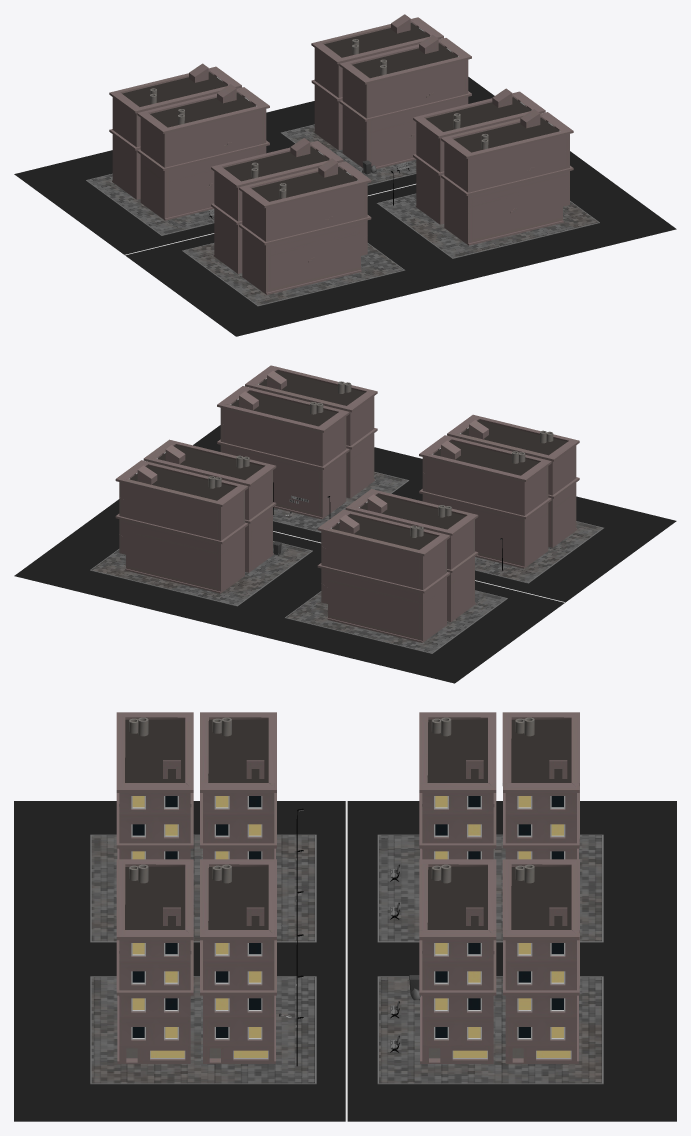
Rendered from colleuses.glb.
3 views of the same model, one above another, from view 1: azimuth 30°, elevation 25°; view 2: azimuth 150°, elevation 25°; view 3: azimuth 270°, elevation 25° (orthographic). The views are drawn at different scales.
Visible parts, largest first — view 1: Buildings.back.bake.sansocclusion, Buildings.front.bake.sansocclusion, Road.2, Trottoirs.bake; view 2: Buildings.back.bake.sansocclusion, Buildings.front.bake.sansocclusion, Road.2, Trottoirs.bake; view 3: Road.2, Buildings.front.bake.sansocclusion, Buildings.back.bake.sansocclusion, Trottoirs.bake.
Boxes of the visible parts, x1,y1,x2,y2 form: Buildings.back.bake.sansocclusion: (109, 63, 371, 294); Buildings.front.bake.sansocclusion: (311, 14, 573, 245); Road.2: (14, 77, 676, 336); Trottoirs.bake: (86, 124, 599, 306); Buildings.back.bake.sansocclusion: (317, 414, 579, 642); Buildings.front.bake.sansocclusion: (115, 365, 377, 593); Road.2: (14, 425, 676, 683); Trottoirs.bake: (90, 472, 603, 653); Road.2: (14, 801, 676, 1121); Buildings.front.bake.sansocclusion: (116, 859, 579, 1063); Buildings.back.bake.sansocclusion: (116, 712, 579, 859); Trottoirs.bake: (90, 834, 603, 1084).
Size of the model in its own units: 1557 by 343 by 1360.
21 materials, 18 textured.
